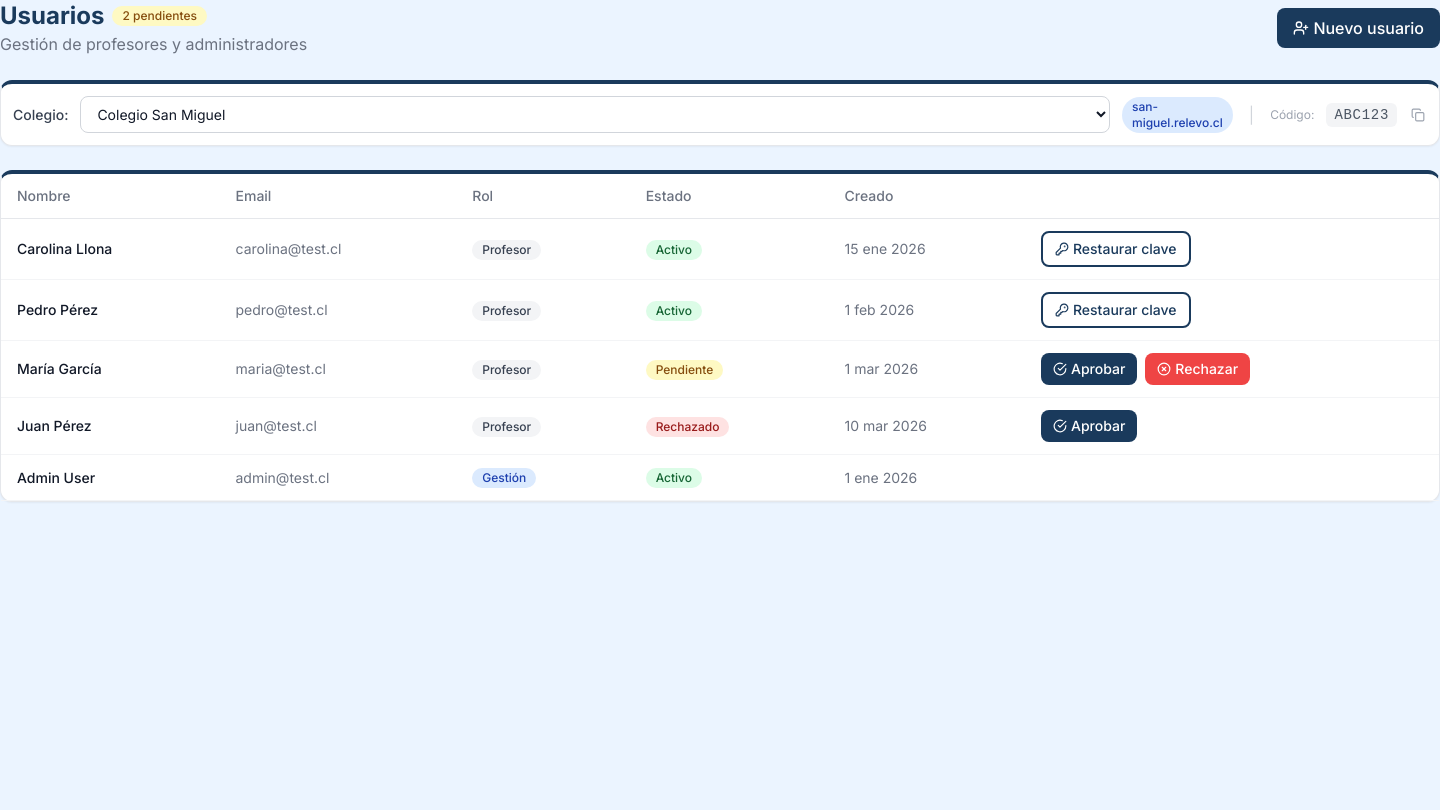
Test case: UsuariosPage › Modal de crear usuario — apertura y cierre › muestra el título "Nuevo usuario" en el modal
Click the button "Nuevo usuario". click: (1359, 28)
box: left=1277, top=8, right=1439, bottom=48
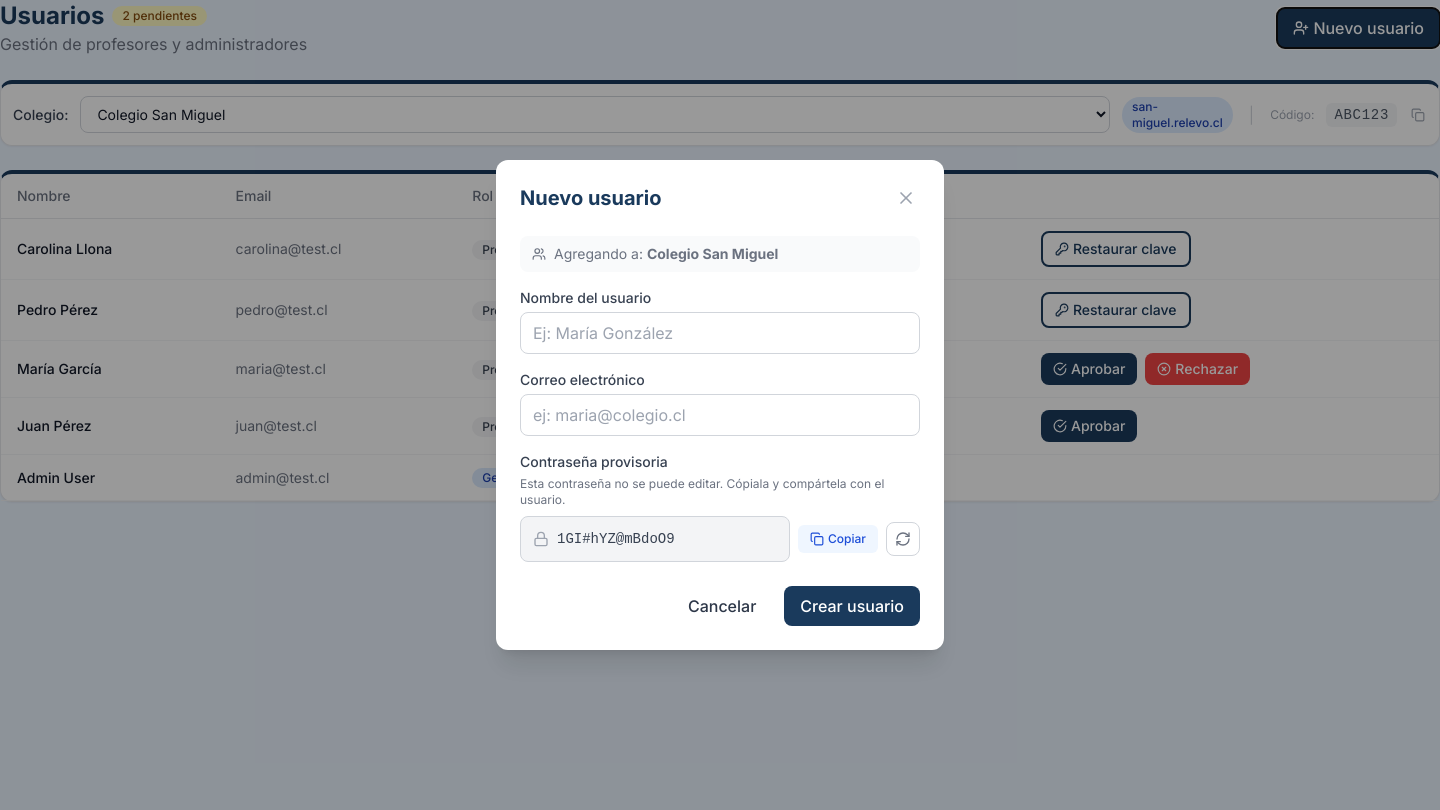
Expected: the heading "Nuevo usuario" is shown, left=520, top=184, right=662, bottom=212
